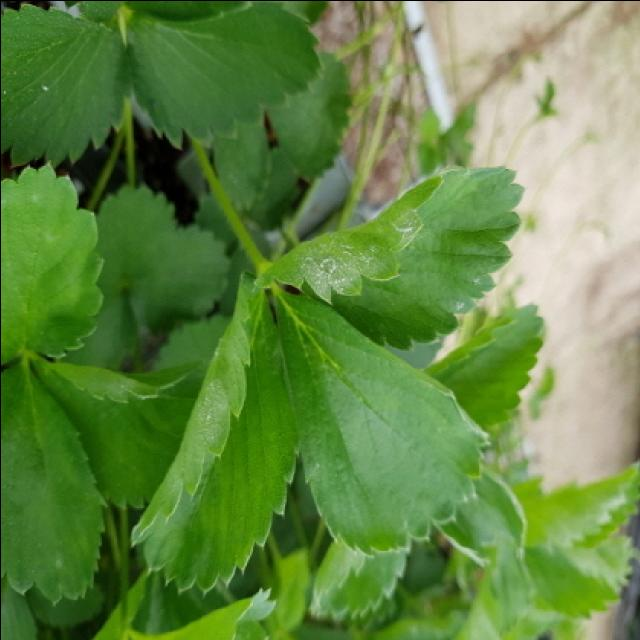Powdery Mildew Leaf: (273, 289, 492, 556), (128, 270, 302, 597), (250, 163, 528, 352)
